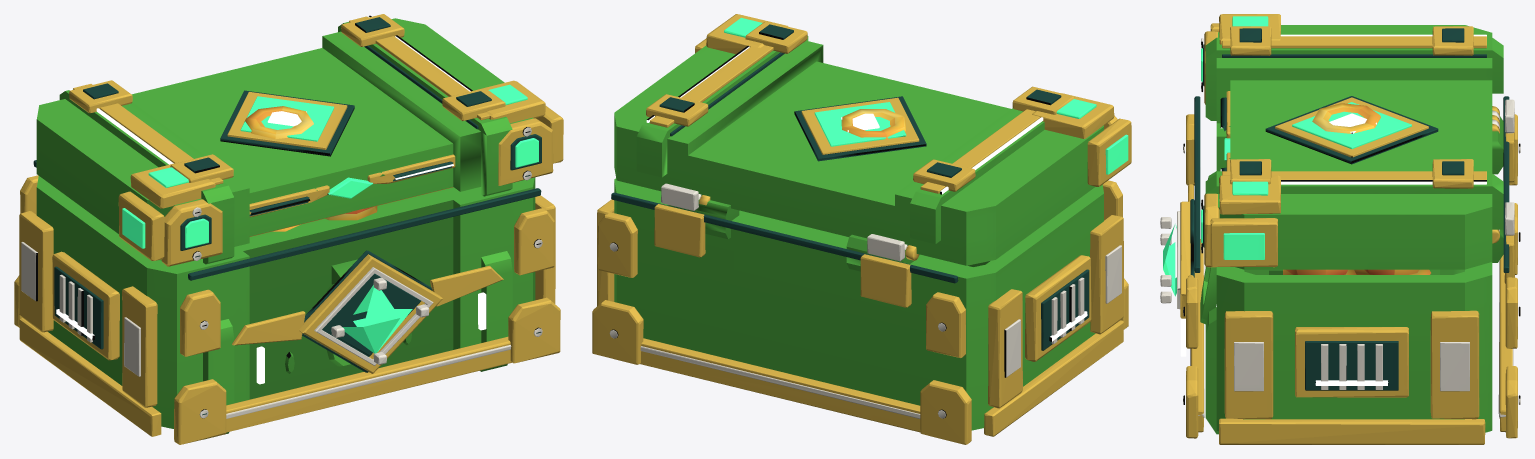
File: jade-reliquary.glb
3 renders of one model, left to right at view 1: azimuth 30°, elevation 25°; view 2: azimuth 150°, elevation 25°; view 3: azimuth 270°, elevation 25°, orthographic.
Visible parts, largest first — view 1: Body, LidShell, CoinPile; view 2: Body, LidShell, CoinPile; view 3: LidShell, Body, CoinPile.
Boxes of the visible parts, <box> form: Body: <box>14,160,560,444</box>; LidShell: <box>36,14,563,266</box>; CoinPile: <box>244,106,377,231</box>; Body: <box>592,178,1128,444</box>; LidShell: <box>614,14,1131,265</box>; CoinPile: <box>841,109,905,139</box>; LidShell: <box>1201,14,1514,269</box>; Body: <box>1160,96,1520,444</box>; CoinPile: <box>1283,103,1430,274</box>.
Size of the model in its own units: 2.2 by 1.27 by 1.6.
Materials: 2 (2 with a texture image).
